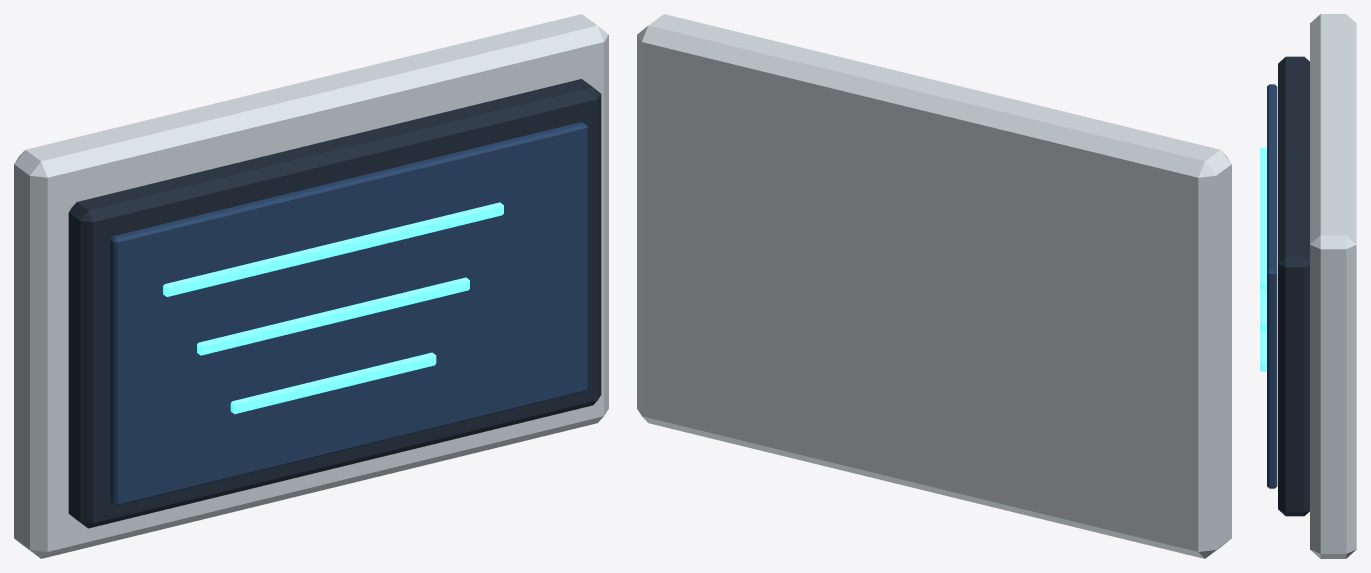
The model's file is ward_07.glb.
3 renders of one model, left to right at view 1: azimuth 30°, elevation 25°; view 2: azimuth 150°, elevation 25°; view 3: azimuth 270°, elevation 25°, orthographic. The views are drawn at different scales.
Visible parts, largest first — view 1: Screen, WallUnit, MonitorFrame, DisplayLine (×3); view 2: WallUnit; view 3: WallUnit, MonitorFrame, Screen, DisplayLine (×3).
Boxes of the visible parts, x1,y1,x2,y2 form: Screen: (110,122,587,505); WallUnit: (14,14,608,558); MonitorFrame: (68,79,601,528); DisplayLine (×3): (163,202,503,414); WallUnit: (637,14,1231,558); WallUnit: (1310,14,1356,558); MonitorFrame: (1278,56,1309,516); Screen: (1267,84,1277,488); DisplayLine (×3): (1260,147,1266,371).
Size of the model in its own units: 0.64 by 0.42 by 0.1135.
